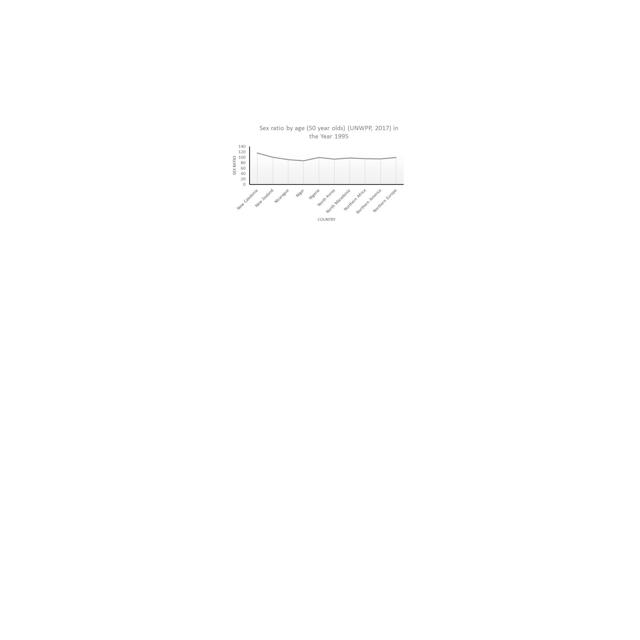Graph: (227, 121, 407, 224)
